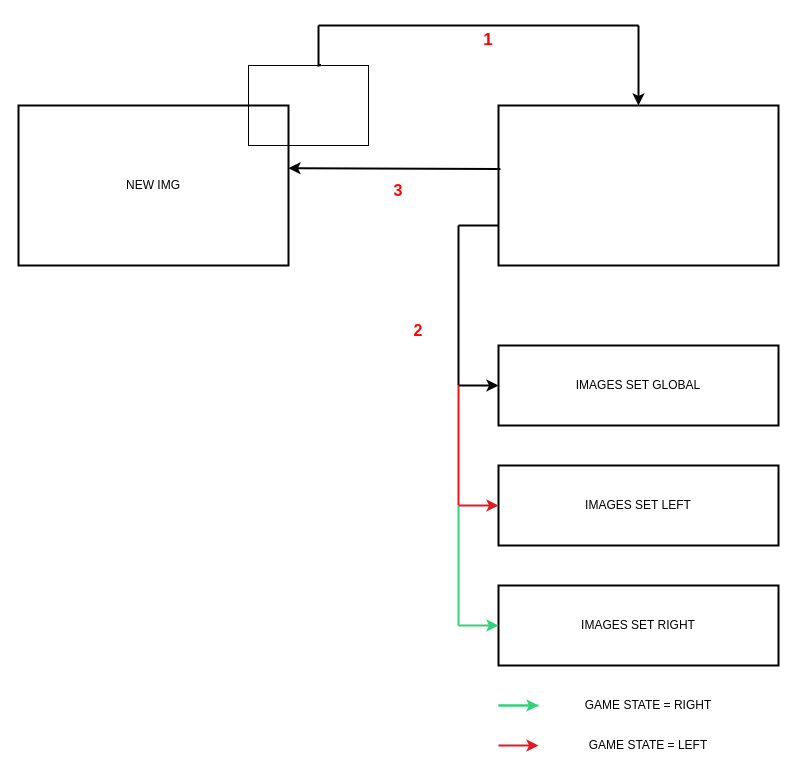
Some shapes in this 796 by 782 pixel diagram are drawn without their labels. The shapes that lost their labels are listed below. From the top down, each one's centre as x and y in pixels, then its label:
At point 308,105: "MAP".
At point 638,185: "IMAGE DRAWER ft_image_drawer(GAME STATE, *NEW_IMG, *MAP, **IMGS_SETS)".
